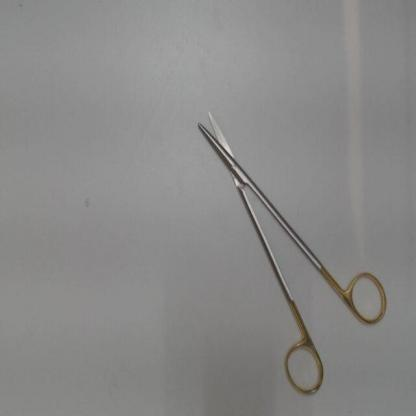7 Metzenbaum Scissors: (197, 110, 390, 397)
